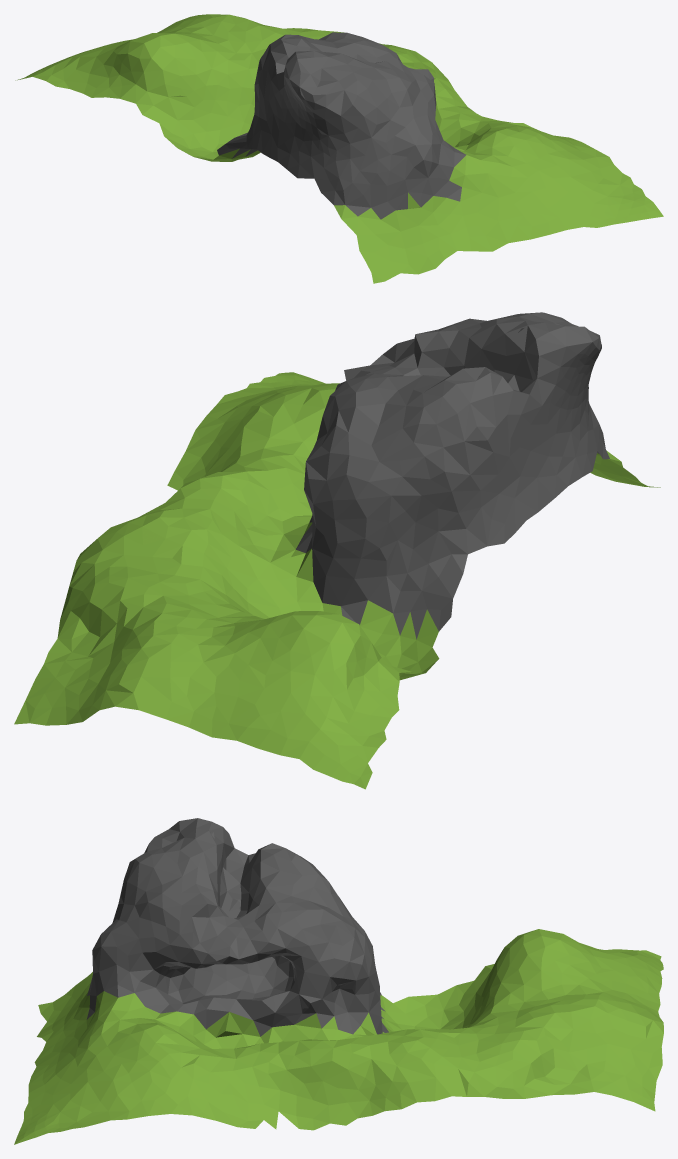
Rendered from water fall.fbx.
3 renders of one model, top to bottom at view 1: azimuth 30°, elevation 25°; view 2: azimuth 150°, elevation 25°; view 3: azimuth 270°, elevation 25°, orthographic. The views are drawn at different scales.
Visible parts, largest first — view 1: Plane; view 2: Plane; view 3: Plane.
Boxes of the visible parts, x1,y1,x2,y2 form: Plane: [15, 14, 663, 283]; Plane: [14, 312, 660, 789]; Plane: [14, 818, 663, 1144].
Bounding box in the file's own units: 2741 × 1361 × 4055.
